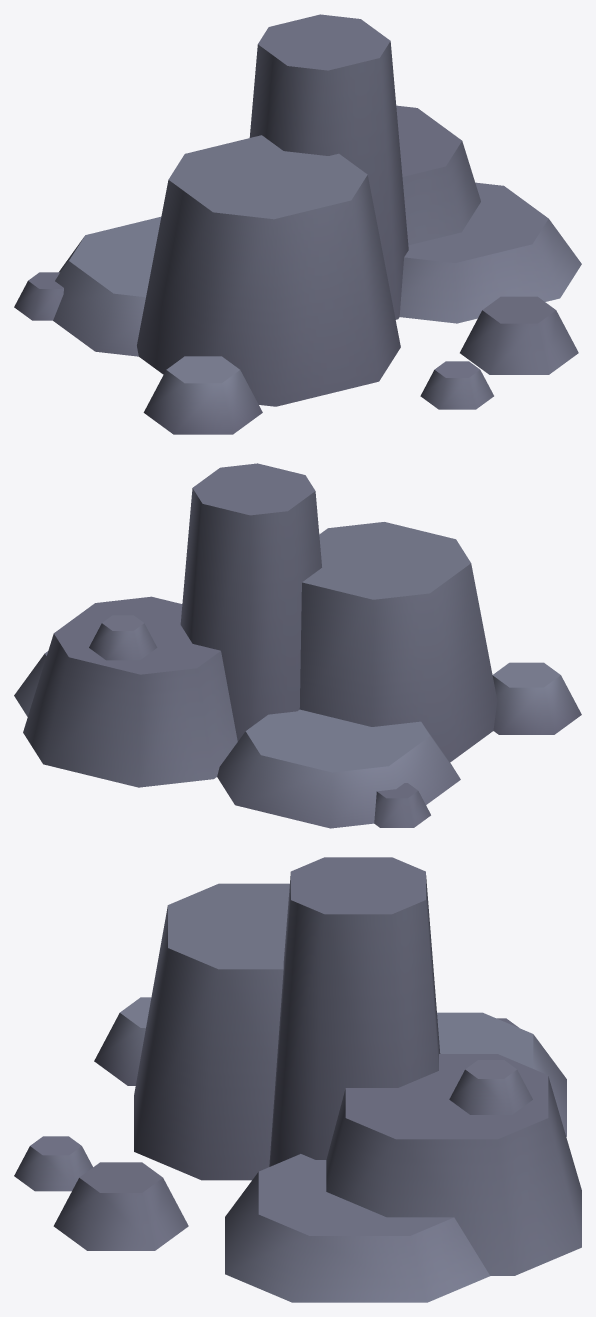
Rendered from stones.glb.
3 renders of one model, top to bottom at view 1: azimuth 30°, elevation 25°; view 2: azimuth 150°, elevation 25°; view 3: azimuth 270°, elevation 25°, orthographic. The views are drawn at different scales.
Visible parts, largest first — view 1: stones; view 2: stones; view 3: stones.
Part boxes in pixels (bbox=[...]): stones: bbox=[14, 14, 581, 434]; stones: bbox=[14, 463, 581, 828]; stones: bbox=[14, 857, 581, 1302].
Size of the model in its own units: 0.8924 by 0.4539 by 0.8045.
Materials: 1 (1 with a texture image).
